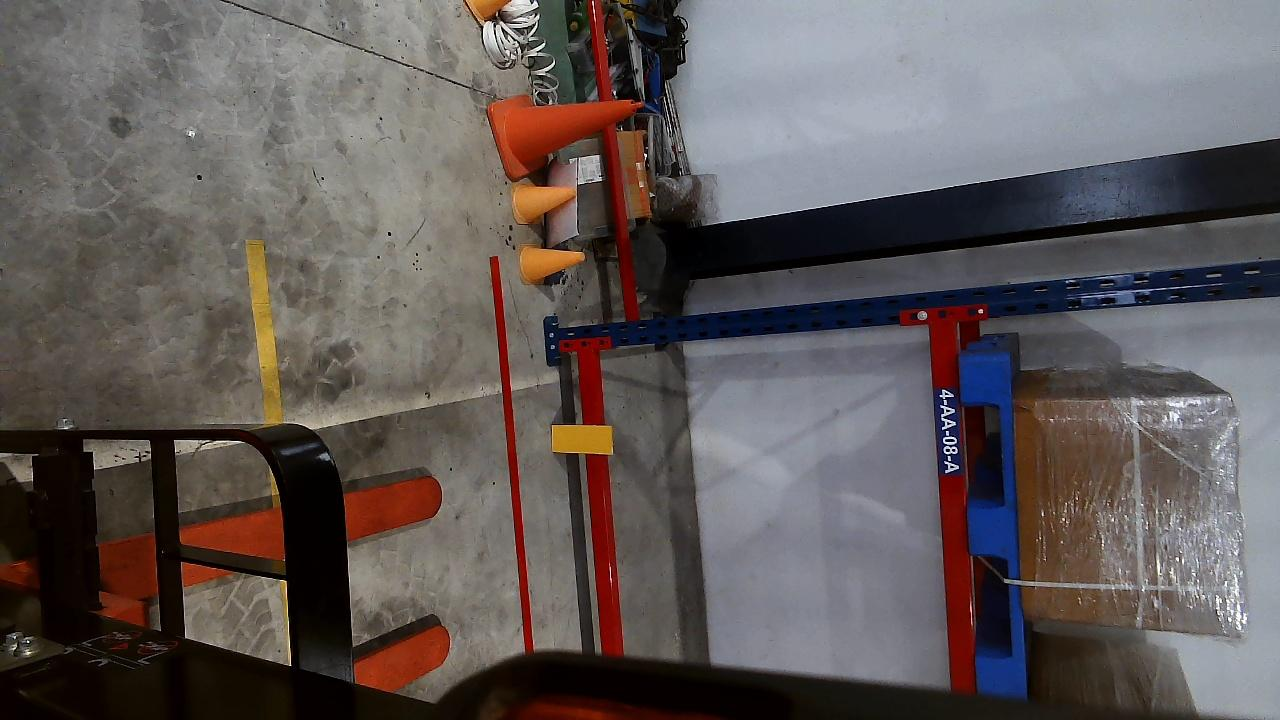h_rack: (927, 322, 976, 691), (579, 360, 622, 654)
orange_strip: (551, 424, 614, 455)
red_line: (492, 257, 535, 656)
small_pallet: (963, 355, 1030, 691)
yellow_line: (244, 239, 283, 424)
